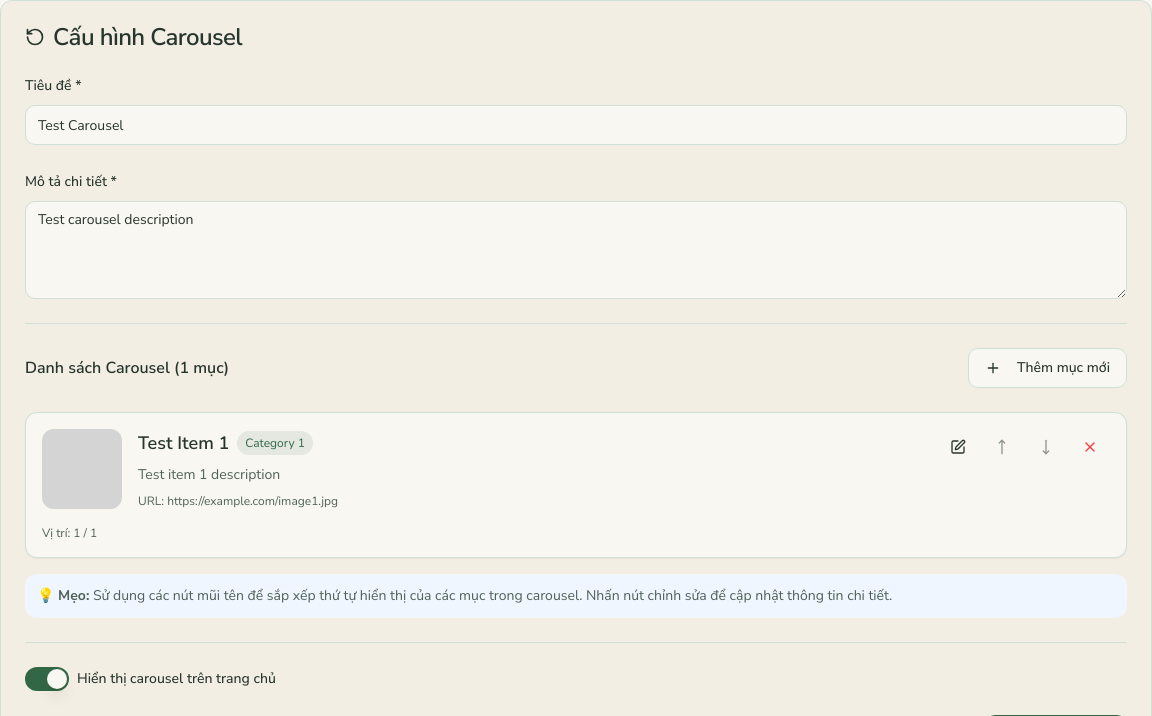
Test: CarouselSection › opens add dialog when clicking add button
The width and height of the screenshot is (1152, 716).
Click the button "Thêm mục mới". click: (1048,368)
box: [968, 348, 1127, 388]
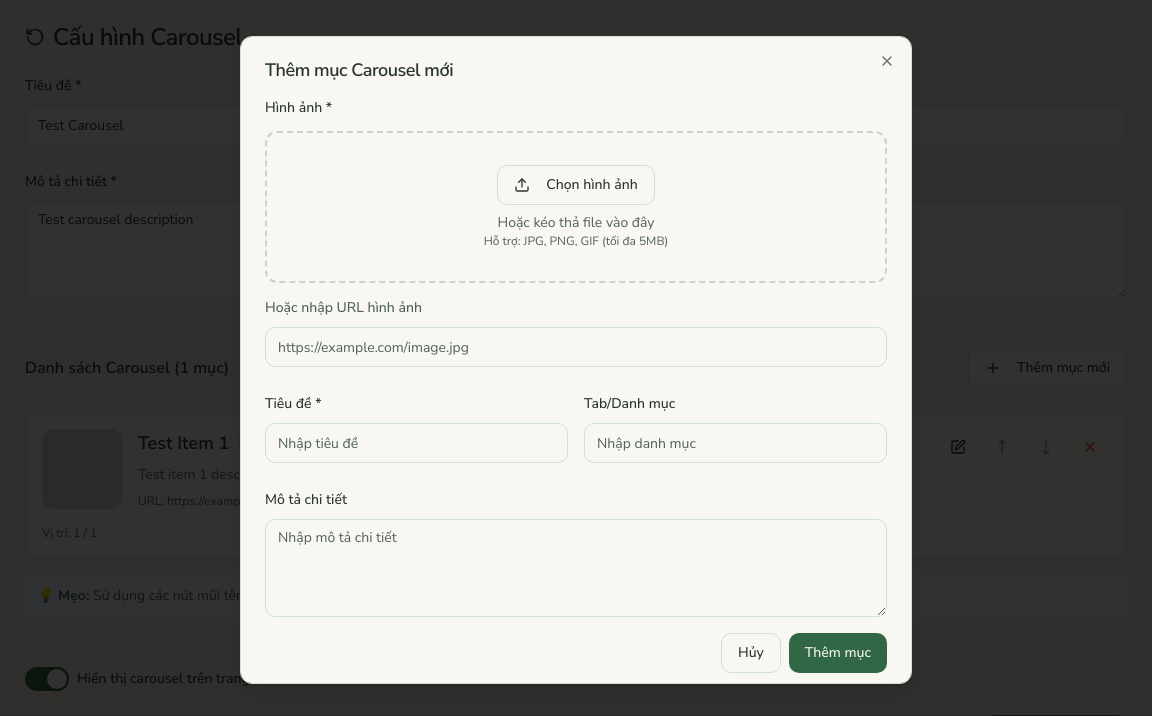
Now the heading "Thêm mục Carousel mới" is shown, box [265, 58, 453, 82]
